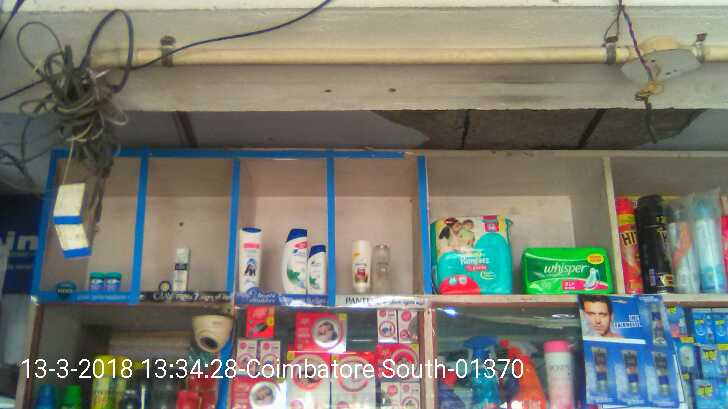vicks: (87, 269, 123, 291)
